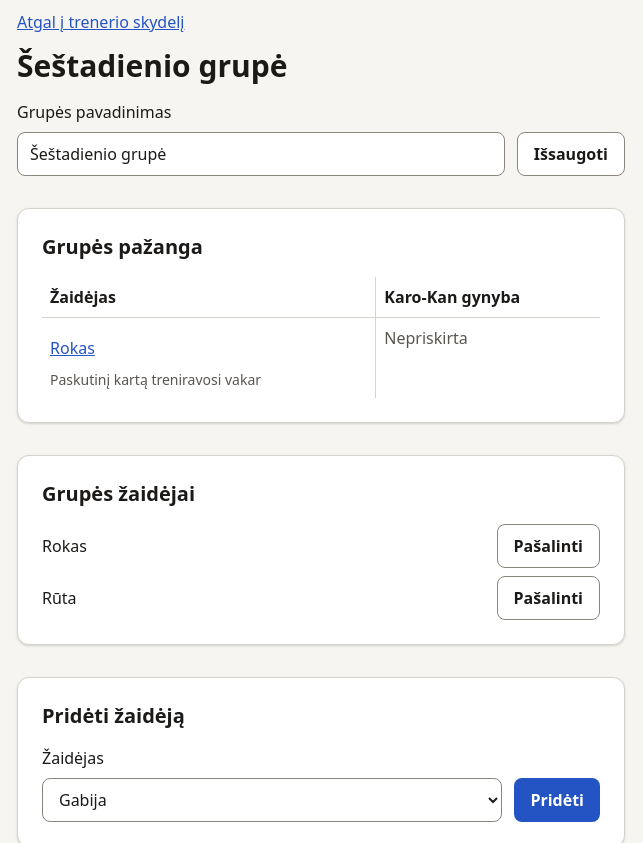
GroupView › shows a refused Add in the adding section
The width and height of the screenshot is (643, 843).
Click the button "Pridėti". click: (557, 800)
box: [514, 778, 600, 822]
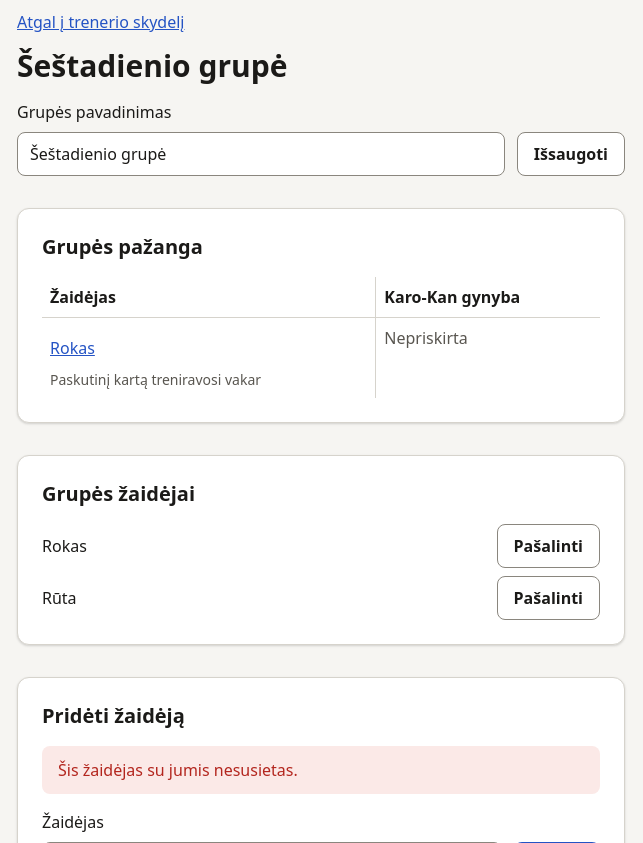
expect the message reads "Šis žaidėjas su jumis nesusietas.": met, box [58, 759, 298, 781]
